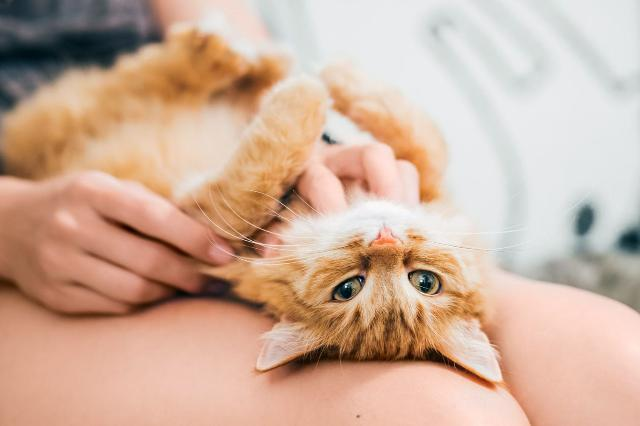cat: (0, 22, 500, 384)
